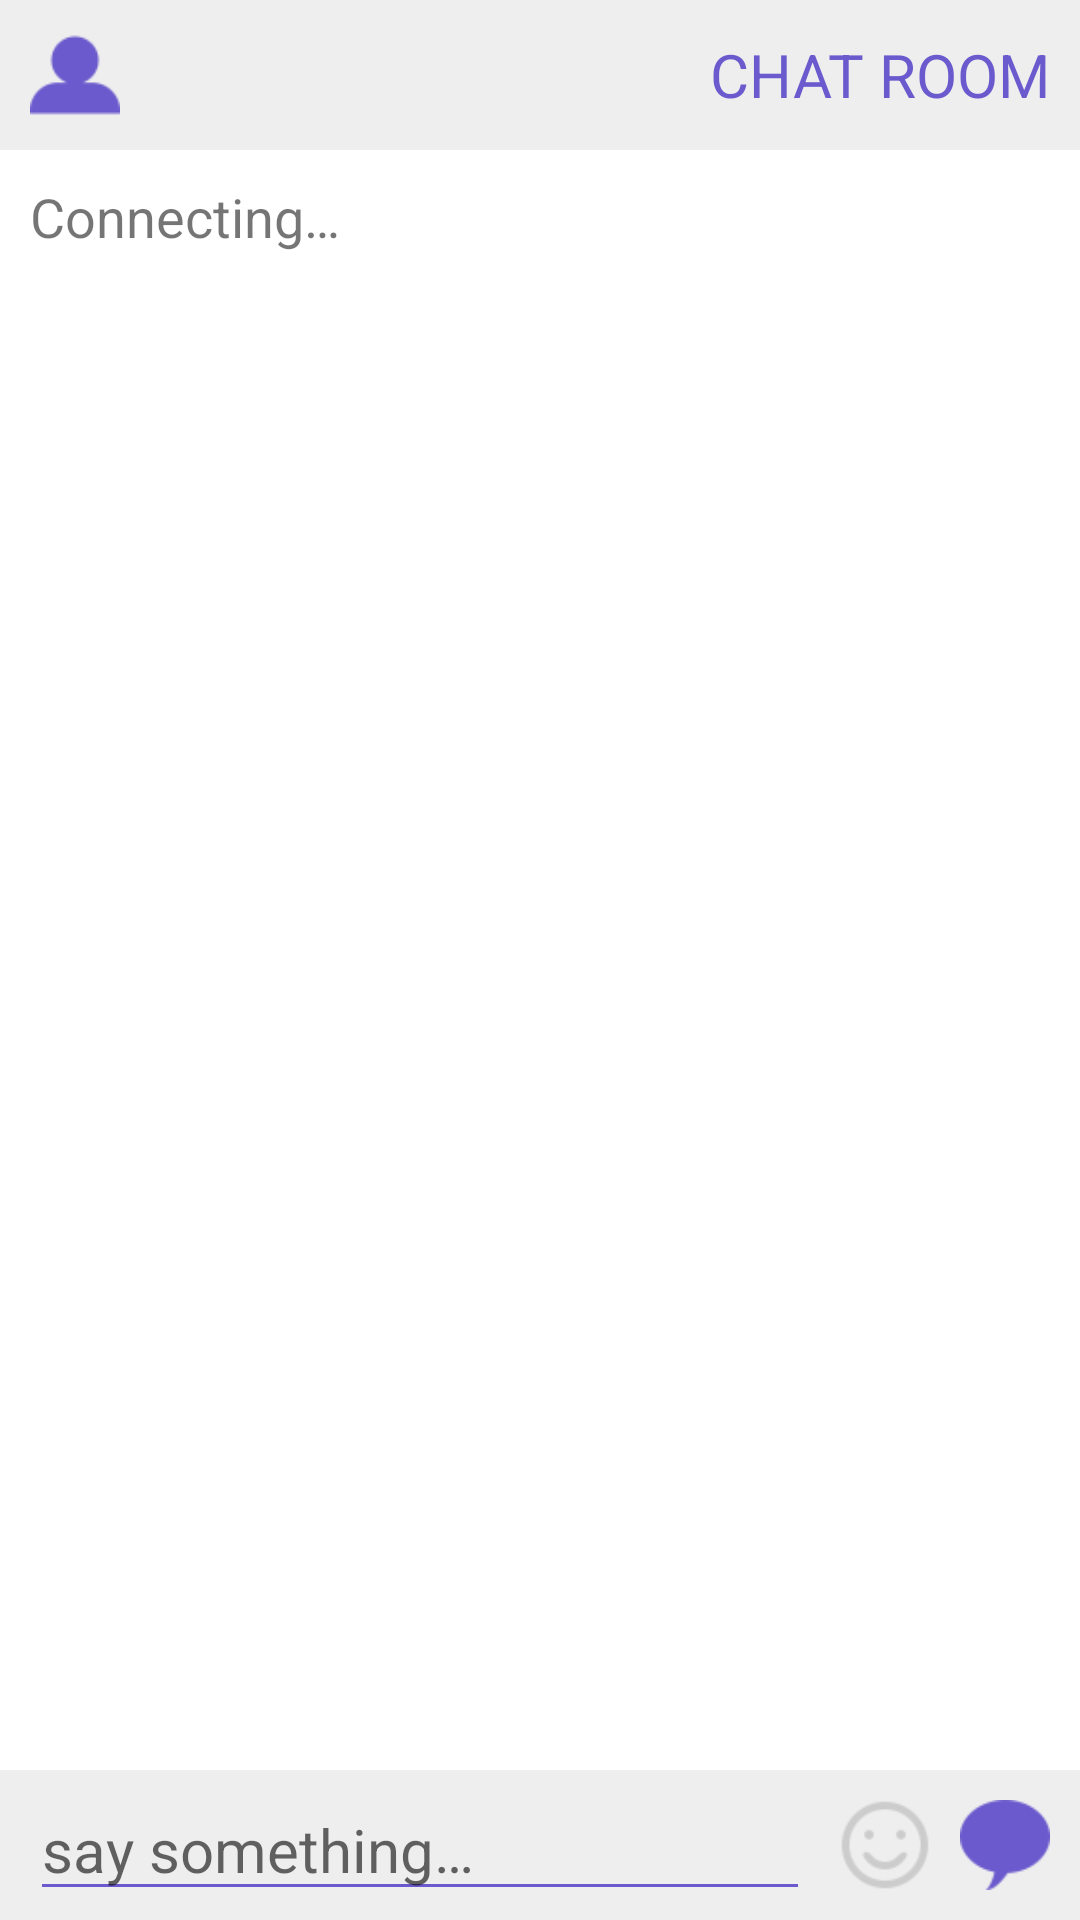

Icon click points for this 1080 x 1920 phone screenshot, format [x,y]:
face: [885,1845]
user: [75,75]
